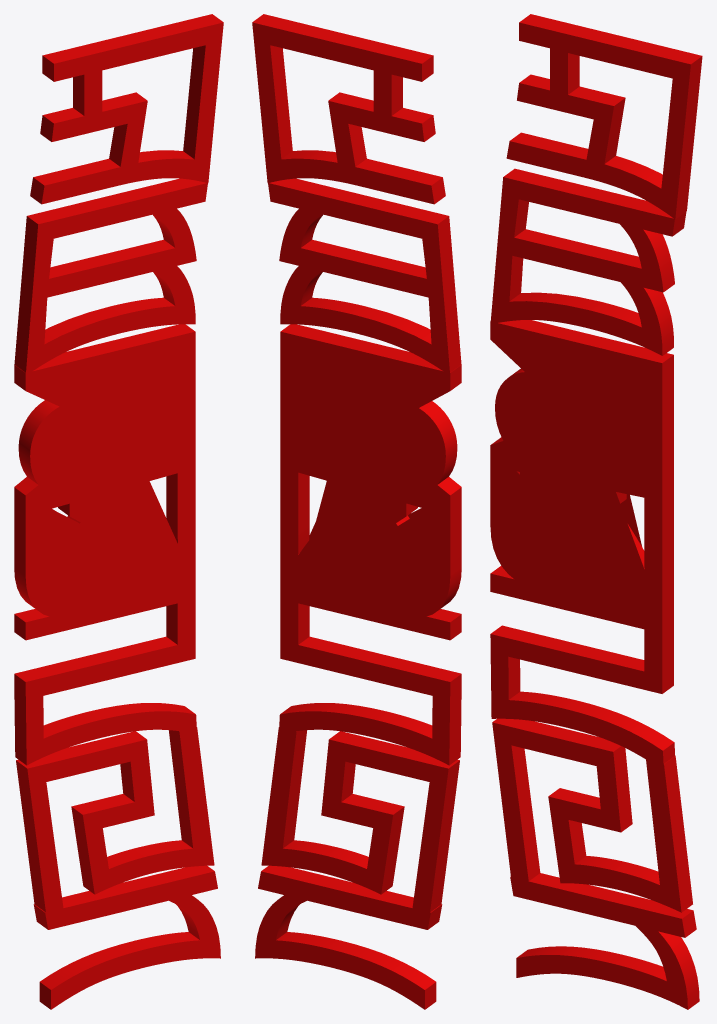
File: Text_sign_3.fbx
3 views of the same model, side by side, from view 1: azimuth 30°, elevation 25°; view 2: azimuth 150°, elevation 25°; view 3: azimuth 330°, elevation 25° (orthographic).
Visible parts, largest first — view 1: Text_sign_3; view 2: Text_sign_3; view 3: Text_sign_3.
Part boxes in pixels (bbox=[...]): Text_sign_3: bbox=[14, 14, 223, 1009]; Text_sign_3: bbox=[252, 14, 461, 1009]; Text_sign_3: bbox=[490, 14, 702, 1009].
Bounding box in the file's own units: 25.09 × 114 × 2.52.
